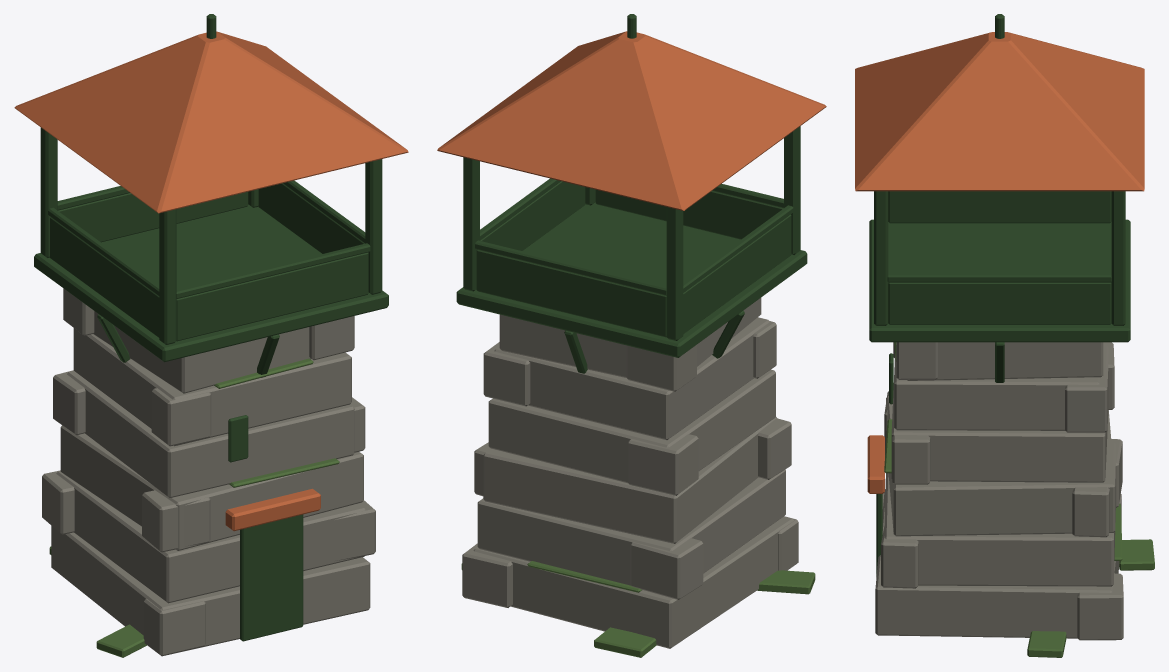
File: watchtower.obj
3 views of the same model, side by side, from view 1: azimuth 30°, elevation 25°; view 2: azimuth 150°, elevation 25°; view 3: azimuth 270°, elevation 25° (orthographic).
Visible parts, largest first — view 1: watchtower; view 2: watchtower; view 3: watchtower.
Part boxes in pixels (<box>): watchtower: <box>14,14,408,657</box>; watchtower: <box>437,14,826,657</box>; watchtower: <box>855,14,1154,657</box>.
Size of the model in its own units: 4.22 by 8 by 3.79.
